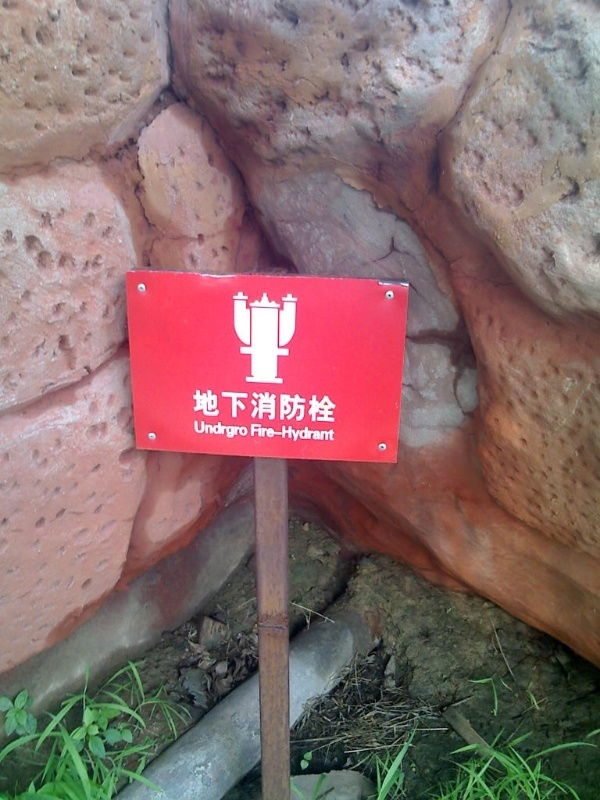text: (193, 386, 208, 427), (209, 386, 224, 427), (225, 386, 240, 427), (241, 386, 256, 427), (257, 386, 272, 427), (273, 386, 288, 427), (289, 386, 304, 427), (305, 386, 320, 427), (321, 386, 336, 427), (193, 419, 208, 440), (209, 419, 224, 440), (225, 419, 240, 440), (257, 424, 272, 445), (273, 424, 288, 445), (289, 424, 304, 445), (305, 424, 320, 445), (321, 424, 336, 445), (241, 419, 248, 440), (249, 424, 256, 445), (337, 386, 340, 427)
